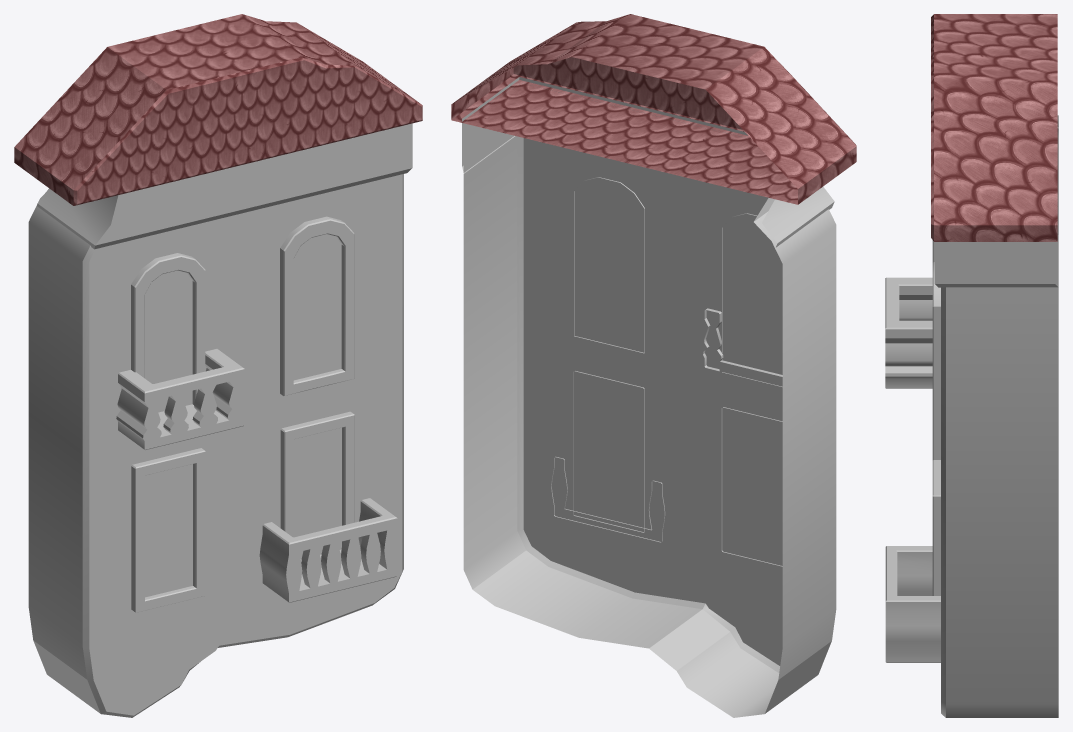
File: ShortHouse002.FBX
3 views of the same model, side by side, from view 1: azimuth 30°, elevation 25°; view 2: azimuth 150°, elevation 25°; view 3: azimuth 270°, elevation 25° (orthographic). The views are drawn at different scales.
Parts seen in each view (by area): view 1: ShortBuilding002; view 2: ShortBuilding002; view 3: ShortBuilding002.
Part boxes in pixels (x1,y1,x2,y2): ShortBuilding002: [14, 14, 422, 717]; ShortBuilding002: [451, 14, 856, 717]; ShortBuilding002: [885, 14, 1058, 717].
Bounding box in the file's own units: 757 × 1295 × 312.
